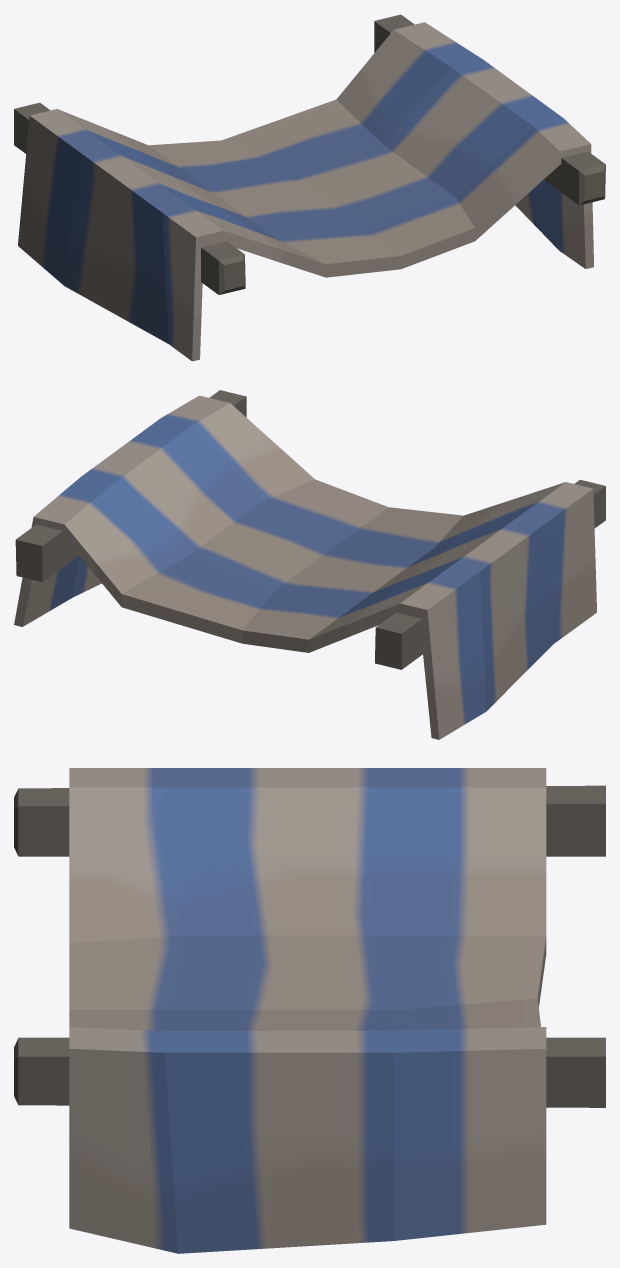
File: SM_Bld_Village_ClothCover_Small_01.fbx
3 renders of one model, top to bottom at view 1: azimuth 30°, elevation 25°; view 2: azimuth 150°, elevation 25°; view 3: azimuth 270°, elevation 25°, orthographic. The views are drawn at different scales.
Visible parts, largest first — view 1: SM_Bld_Village_ClothCover_Small_01; view 2: SM_Bld_Village_ClothCover_Small_01; view 3: SM_Bld_Village_ClothCover_Small_01.
Boxes of the visible parts, x1,y1,x2,y2 form: SM_Bld_Village_ClothCover_Small_01: [14, 14, 605, 361]; SM_Bld_Village_ClothCover_Small_01: [14, 390, 605, 739]; SM_Bld_Village_ClothCover_Small_01: [14, 768, 605, 1253].
Bounding box in the file's own units: 243 × 75.22 × 203.
